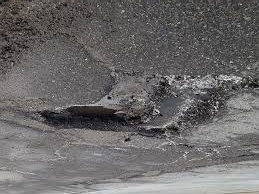pothole: (142, 67, 239, 138), (30, 102, 141, 133), (97, 71, 156, 106)
